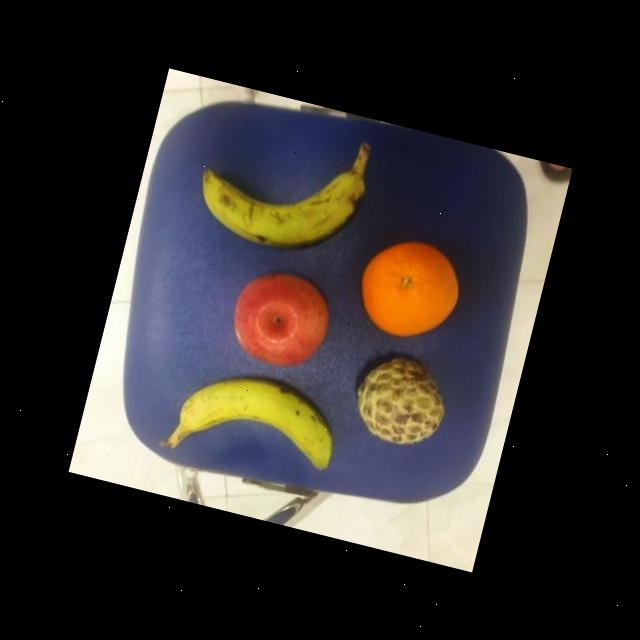Sakya fruit: (344, 348, 456, 456)
apple: (222, 261, 340, 378)
banana: (188, 135, 372, 268), (172, 356, 347, 471)
orange: (348, 227, 469, 351)
